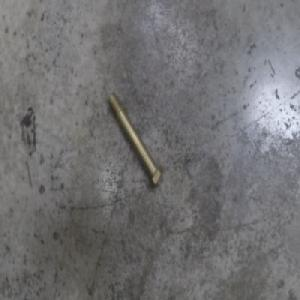Bolt: (106, 90, 164, 190)
